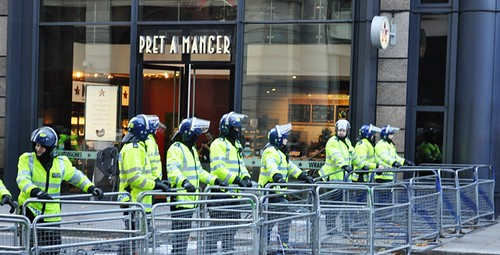building: (4, 1, 500, 158)
policeman: (16, 129, 76, 255), (114, 110, 161, 250), (163, 114, 210, 254), (207, 114, 254, 254), (256, 127, 298, 240), (322, 118, 352, 220), (348, 123, 381, 196), (371, 123, 404, 196)
